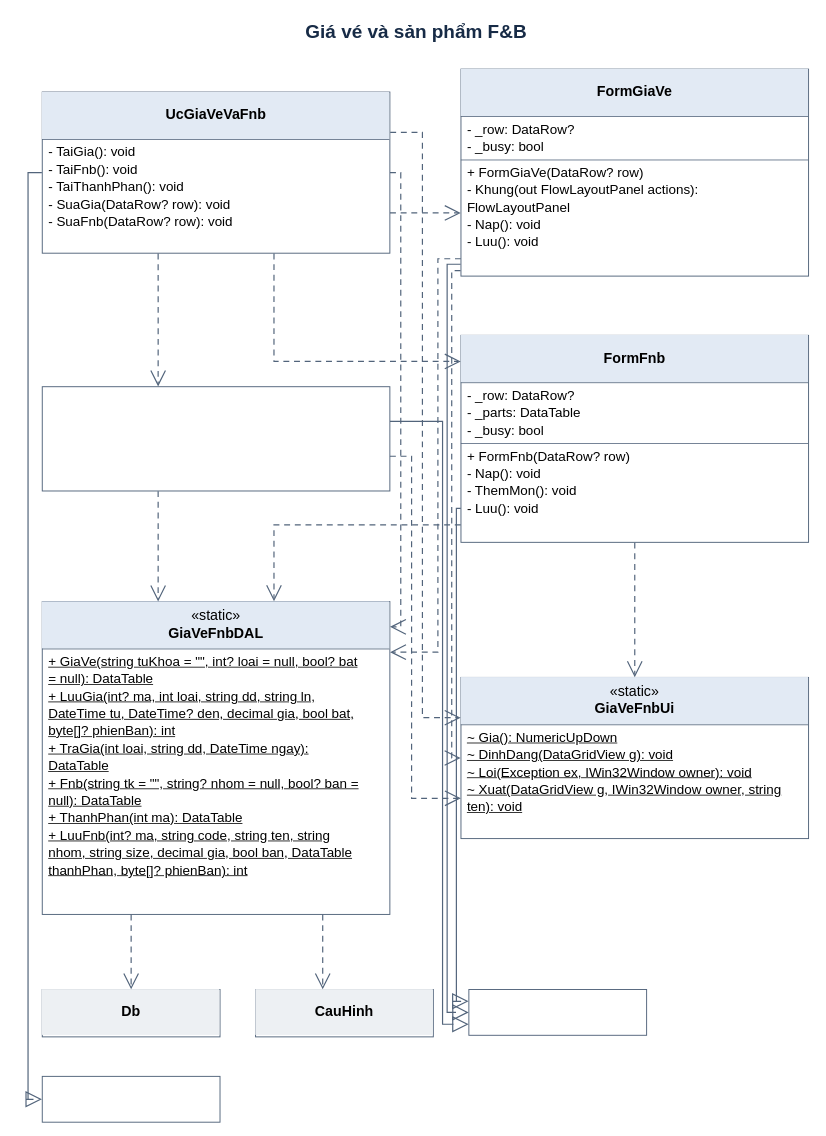
The diagram is 826 pixels wide and 1136 high, and some of its shapes have lost their labels. Each missing label, with the centre of its shape:
FormTraGiaVe + FormTraGiaVe() - Tra(): void: point (215, 438)
«framework» Form: point (557, 1012)
«framework» UserControl: point (130, 1099)
